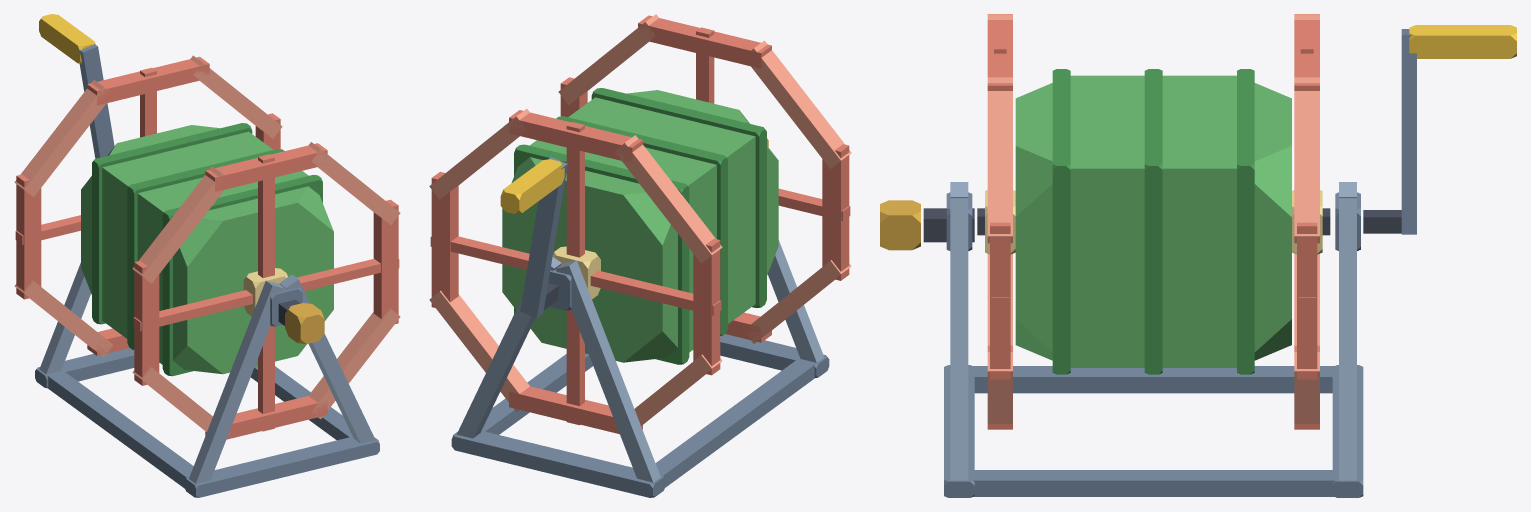
File: hose-reel-j-toastie_R5xHvcRKb2-blocky.glb
3 renders of one model, left to right at view 1: azimuth 30°, elevation 25°; view 2: azimuth 150°, elevation 25°; view 3: azimuth 270°, elevation 25°, orthographic. The views are drawn at different scales.
Visible parts, largest first — view 1: Main, Stand, Handle, E_1; view 2: Main, Stand, Handle; view 3: Main, Stand, Handle, E_1.
Part boxes in pixels (left/top/right/bottom): Main: left=14, top=55, right=400, bottom=439; Stand: left=35, top=263, right=379, bottom=497; Handle: left=39, top=14, right=114, bottom=158; E_1: left=278, top=299, right=324, bottom=343; Main: left=429, top=14, right=851, bottom=433; Stand: left=451, top=240, right=829, bottom=497; Handle: left=500, top=157, right=567, bottom=318; Main: left=977, top=14, right=1330, bottom=429; Stand: left=944, top=182, right=1363, bottom=497; Handle: left=1363, top=25, right=1516, bottom=234; E_1: left=880, top=200, right=974, bottom=250.
Size of the model in its own units: 1.52 by 1.71 by 2.49.
1 material, 1 textured.
